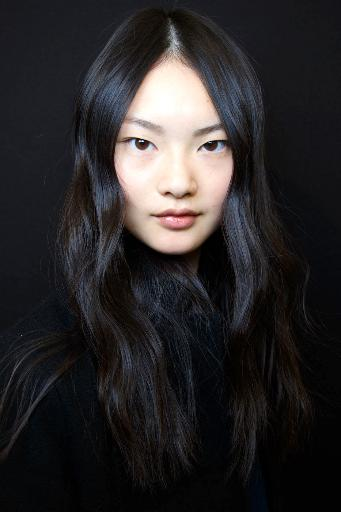left_eye: (197, 138, 231, 159)
left_lip_corner: (196, 207, 209, 224)
right_eye: (122, 138, 160, 158)
right_lip_corner: (148, 209, 160, 225)
